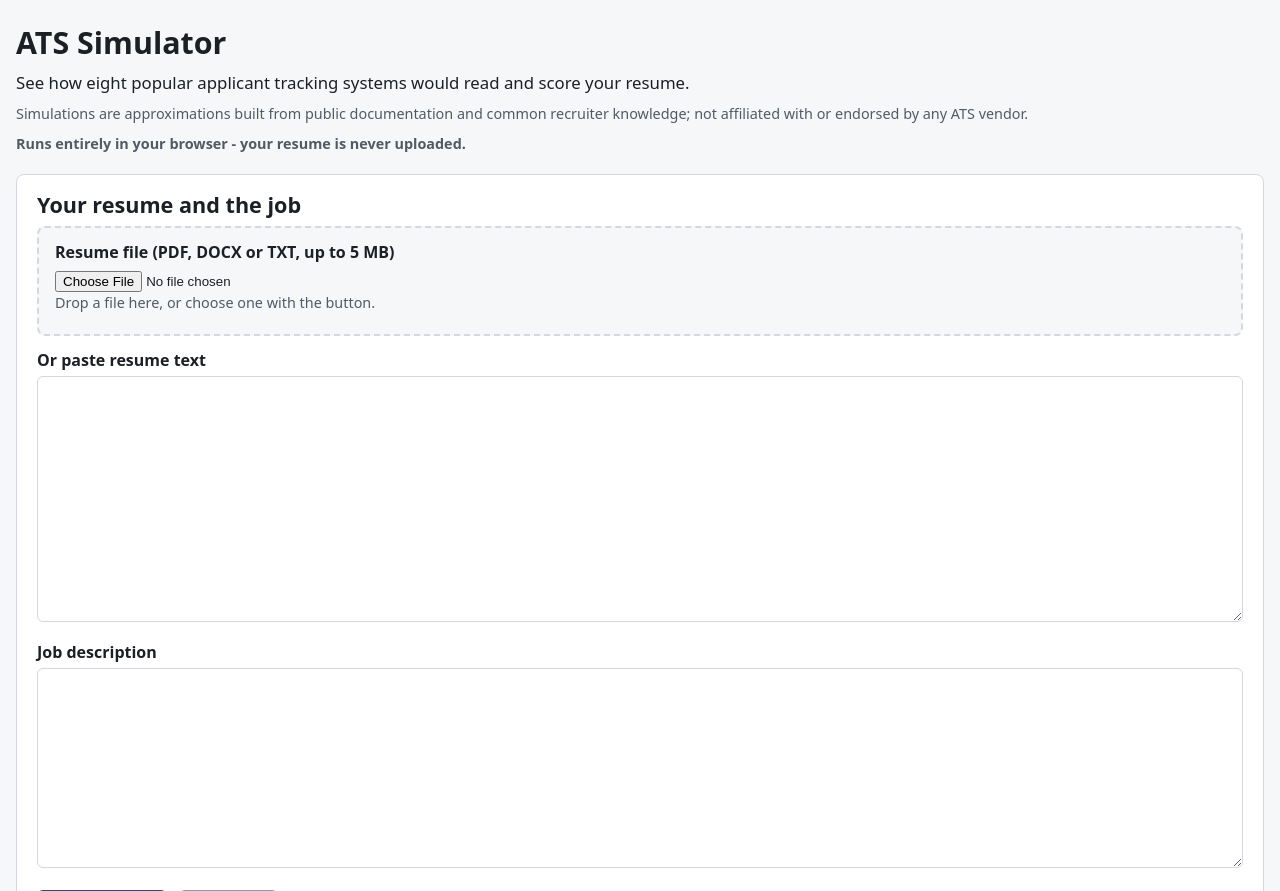
Scenario: App input view (criterion 1) › enables Simulate once resume text is typed
Type "Casey" into the text box labelled "Or paste resume text" at (640, 499), box [37, 376, 1243, 622]
(page scrolled)
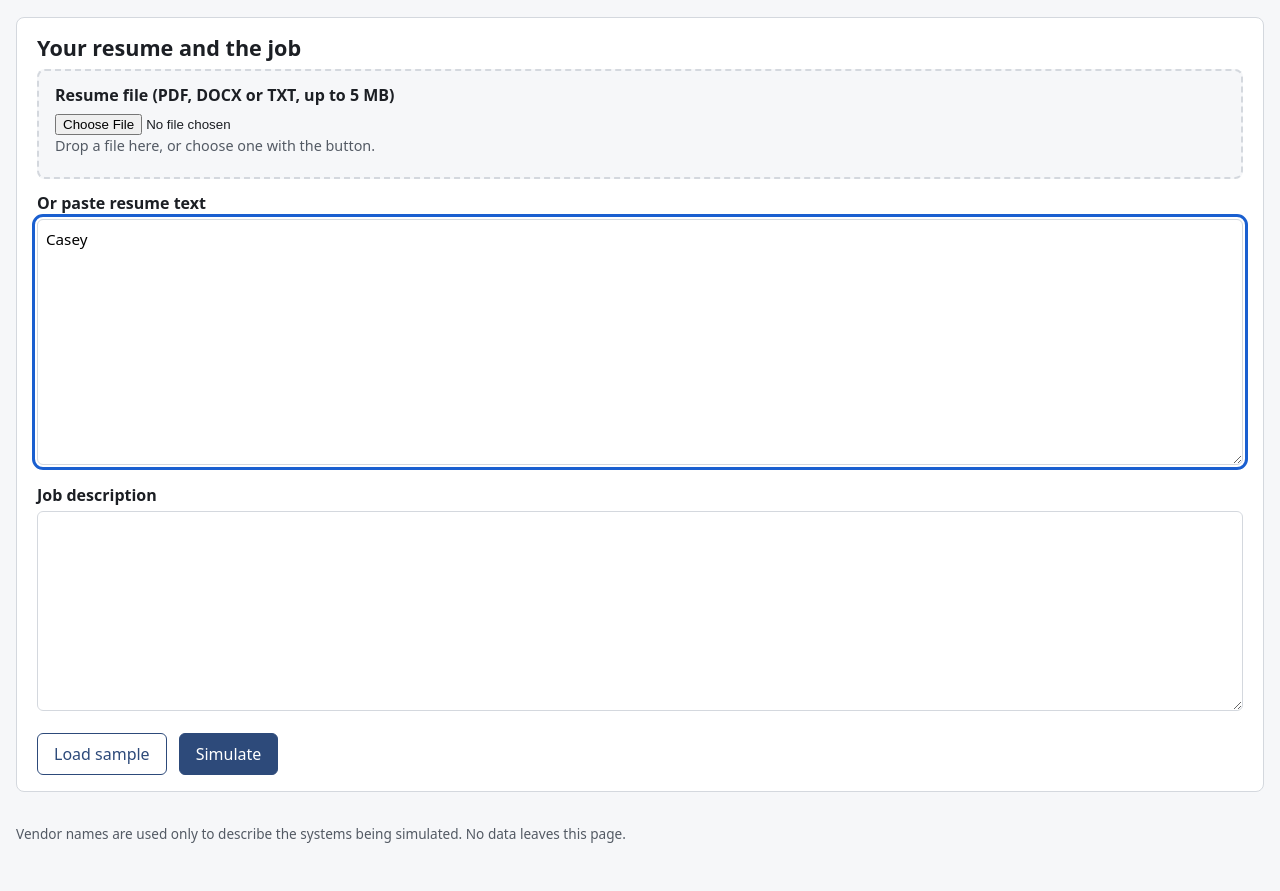
Result: the button "Simulate" is enabled at [179, 733, 278, 775]
